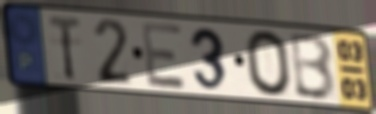2: (91, 16, 134, 86)
3: (188, 24, 234, 94)
B: (289, 31, 339, 103)
E: (139, 20, 189, 92)
O: (242, 28, 294, 99)
T: (46, 13, 83, 83)
